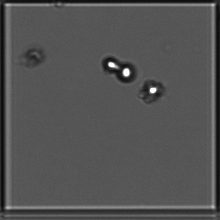Dead Cell: (24, 43, 52, 70)
Living Cell: (142, 76, 169, 105), (119, 60, 137, 84), (102, 54, 118, 70)
